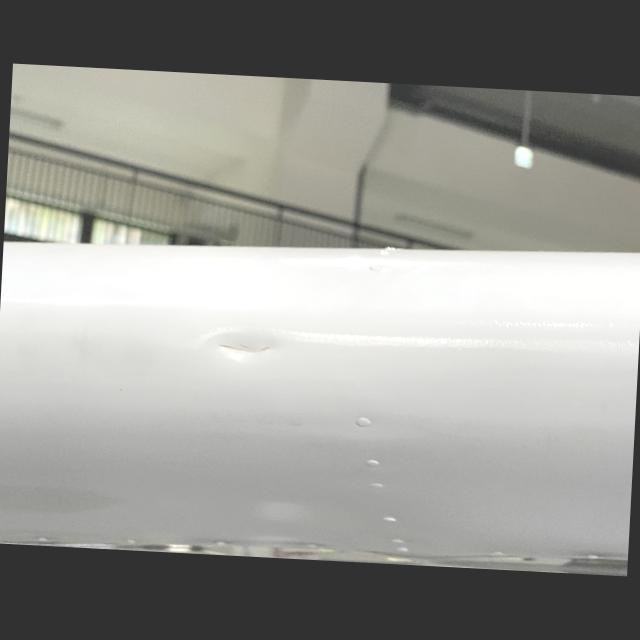dent: (185, 322, 304, 371)
